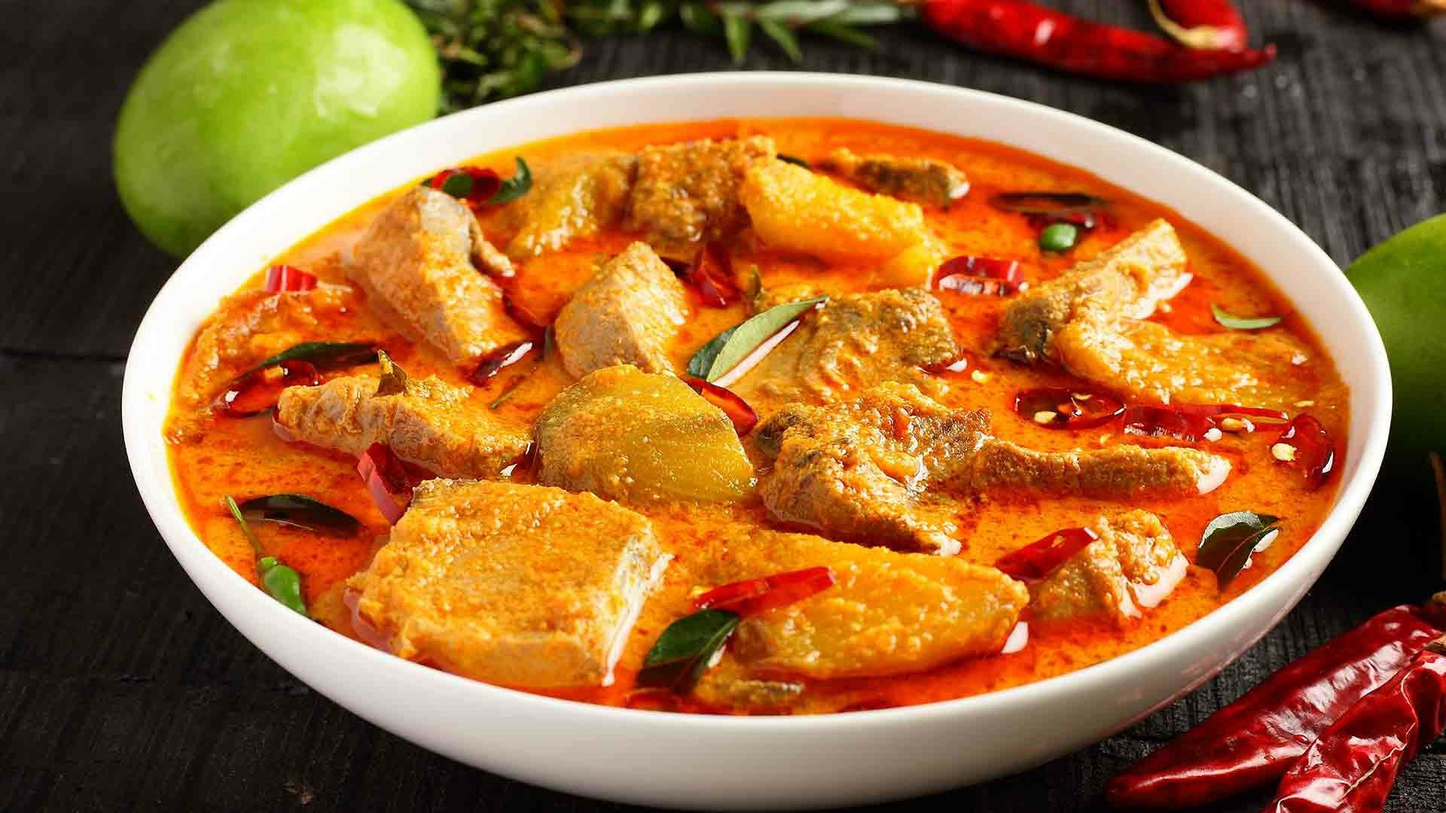FishCurry: (182, 122, 1347, 710)
